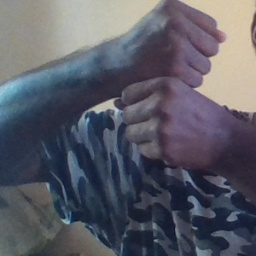G: (121, 1, 228, 170)
